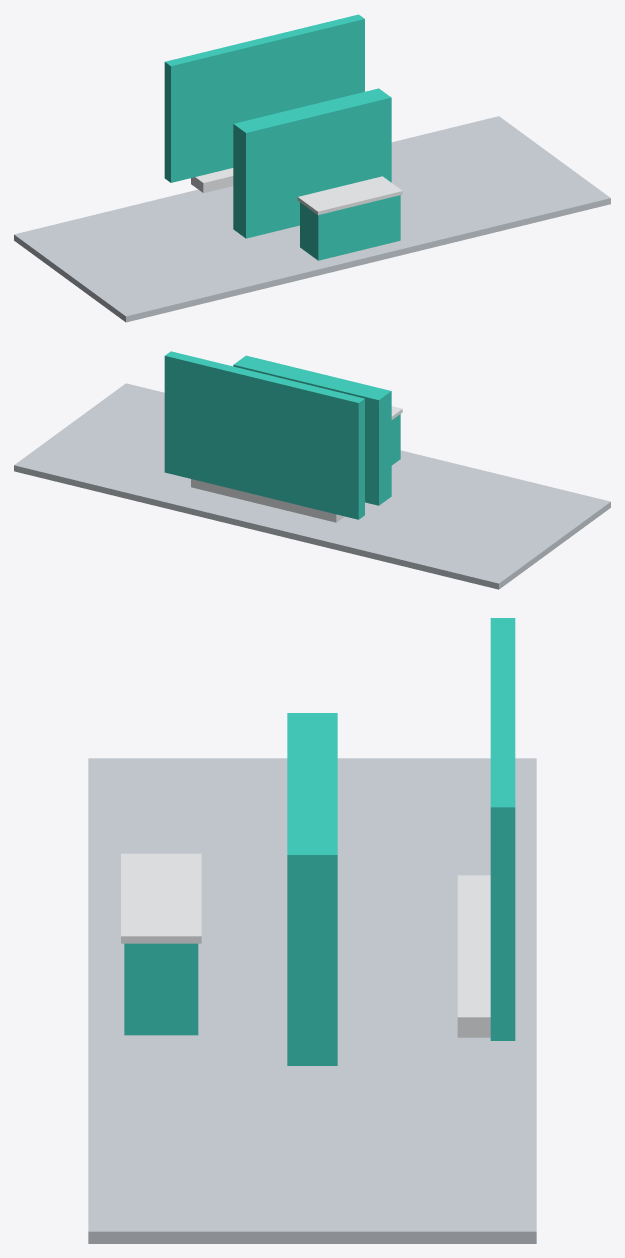
3 renders of one model, top to bottom at view 1: azimuth 30°, elevation 25°; view 2: azimuth 150°, elevation 25°; view 3: azimuth 270°, elevation 25°, orthographic. The views are drawn at different scales.
Visible parts, largest first — view 1: Exhibition Booth Concept; view 2: Exhibition Booth Concept; view 3: Exhibition Booth Concept.
Part boxes in pixels (<box>): Exhibition Booth Concept: <box>14,14,610,322</box>; Exhibition Booth Concept: <box>14,351,610,589</box>; Exhibition Booth Concept: <box>88,618,536,1243</box>.
Bounding box in the file's own units: 10 × 2.9 × 4.
